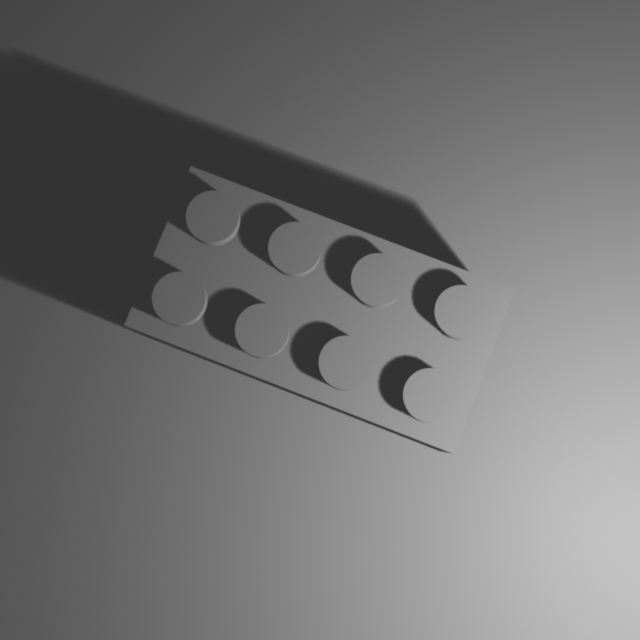lego_2x4: (120, 161, 519, 455)
